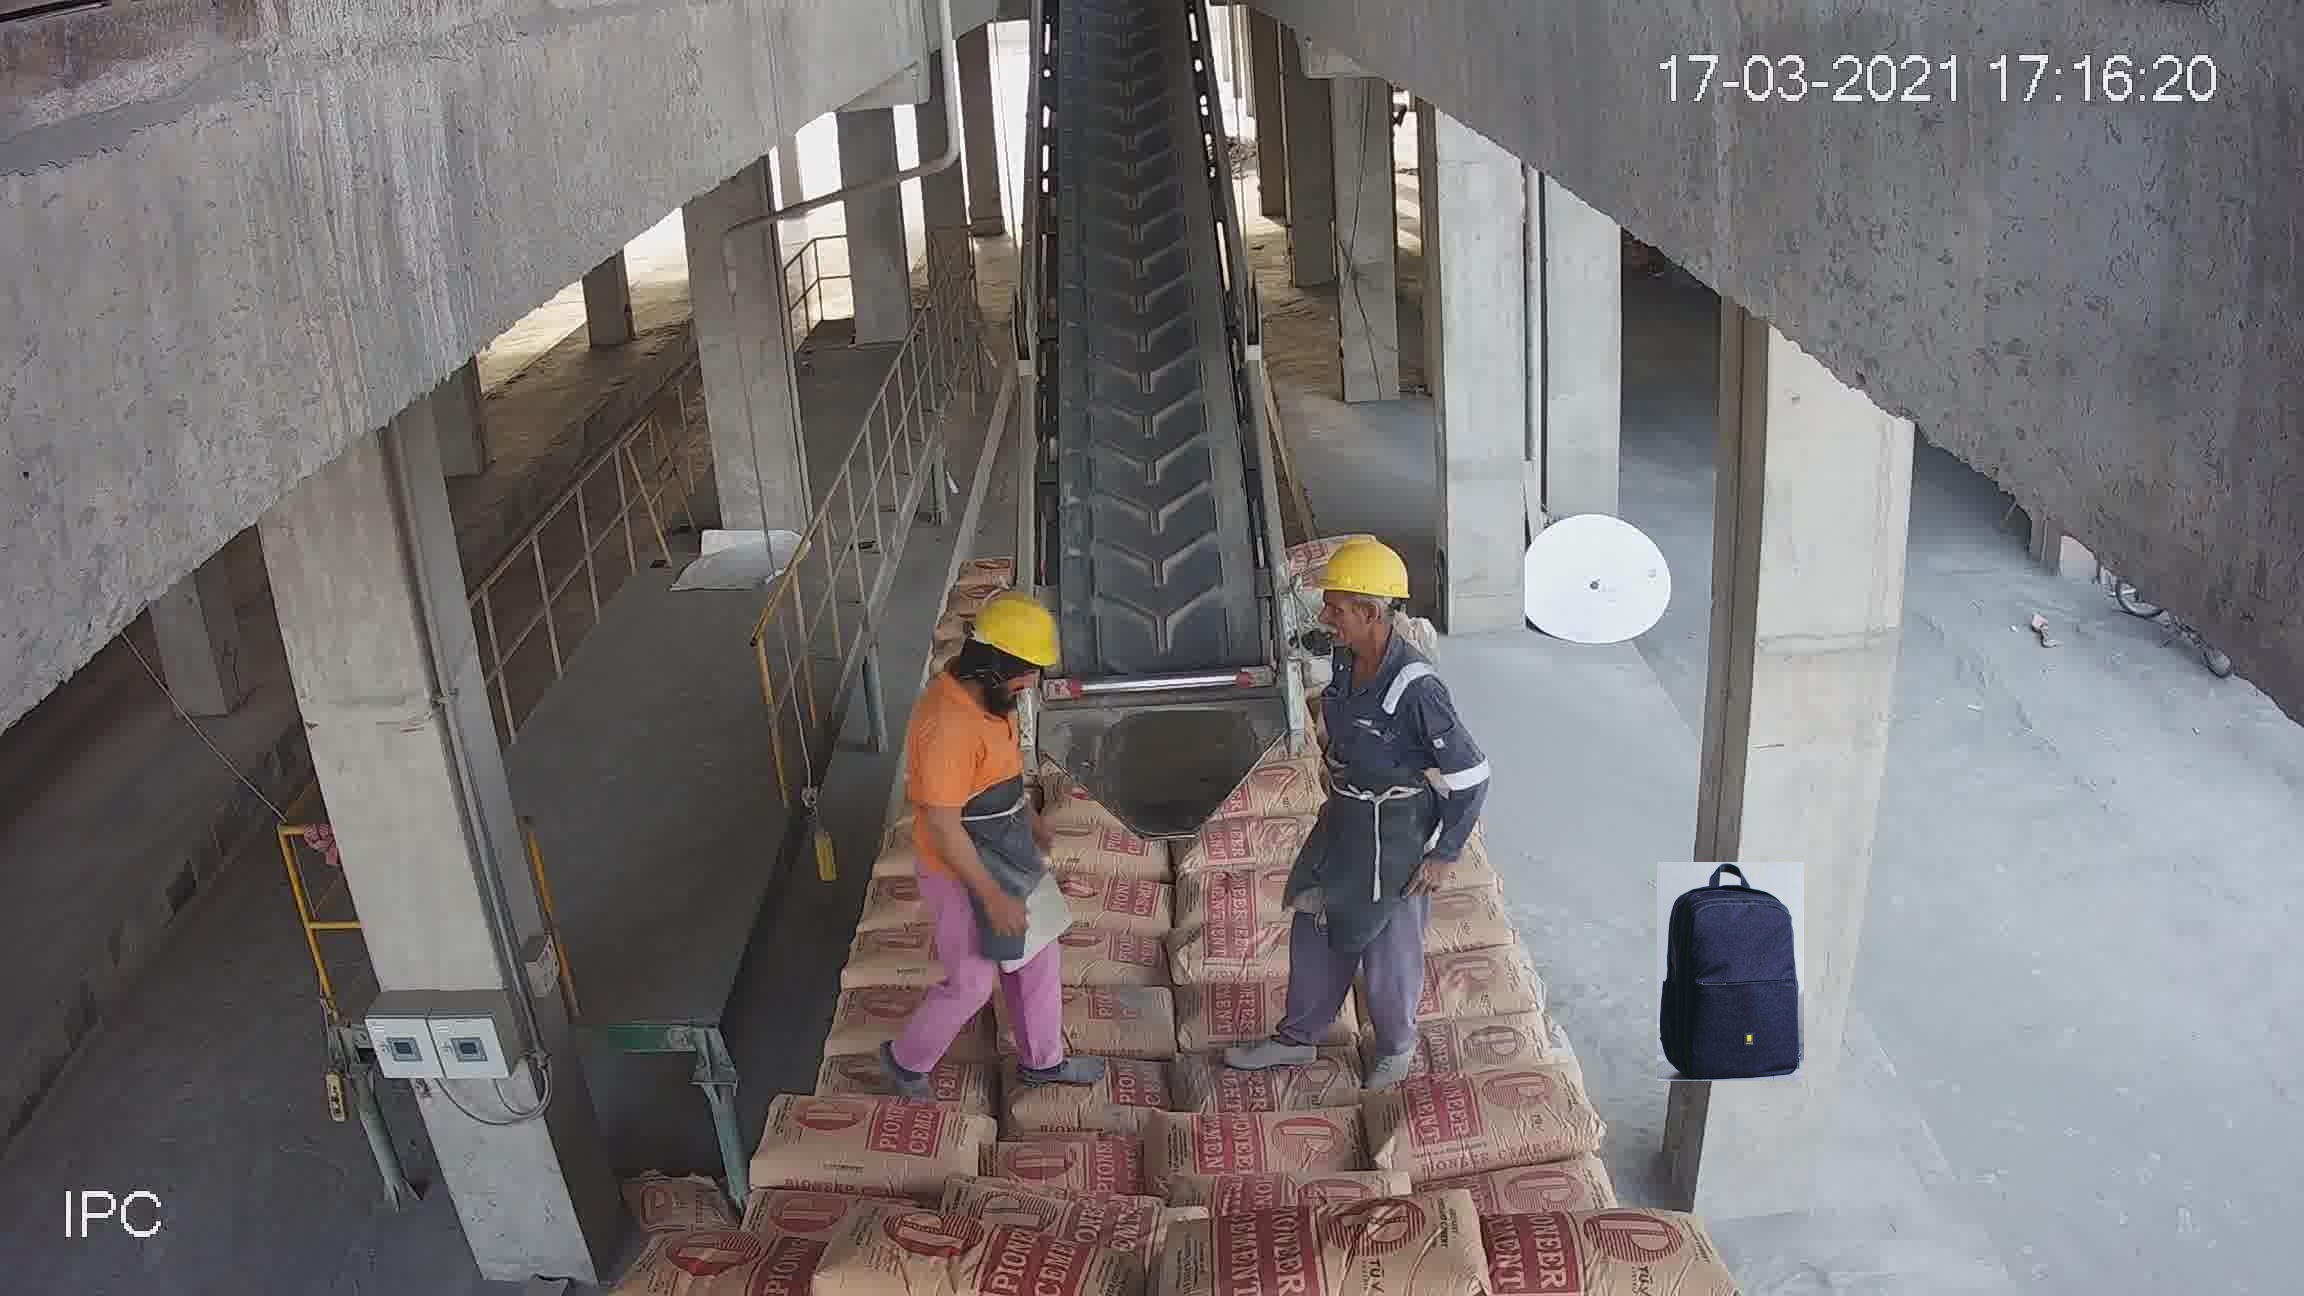bag_h: (1348, 1063, 1605, 1190), (791, 1215, 1131, 1296), (750, 1097, 995, 1195), (1154, 1105, 1378, 1199), (636, 1230, 845, 1296), (809, 1040, 994, 1114), (1000, 1054, 1173, 1131), (1033, 976, 1184, 1063), (1195, 1038, 1362, 1112), (995, 1135, 1169, 1203), (1416, 946, 1540, 1038), (1419, 1006, 1575, 1078), (1040, 867, 1195, 930), (1177, 858, 1291, 943), (1043, 923, 1185, 984), (1165, 929, 1299, 992), (1032, 823, 1171, 880), (1182, 809, 1296, 877), (1176, 984, 1287, 1048), (1255, 525, 1367, 567)
belt: (1013, 49, 1277, 767)
